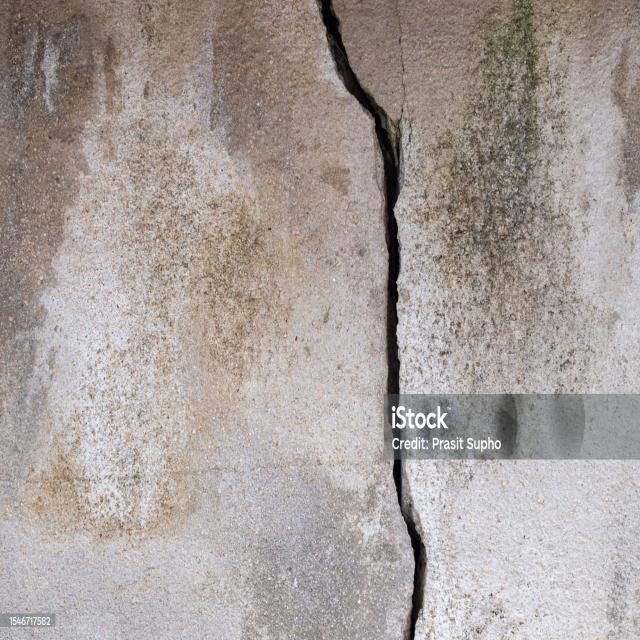Crack: (314, 0, 427, 637)
